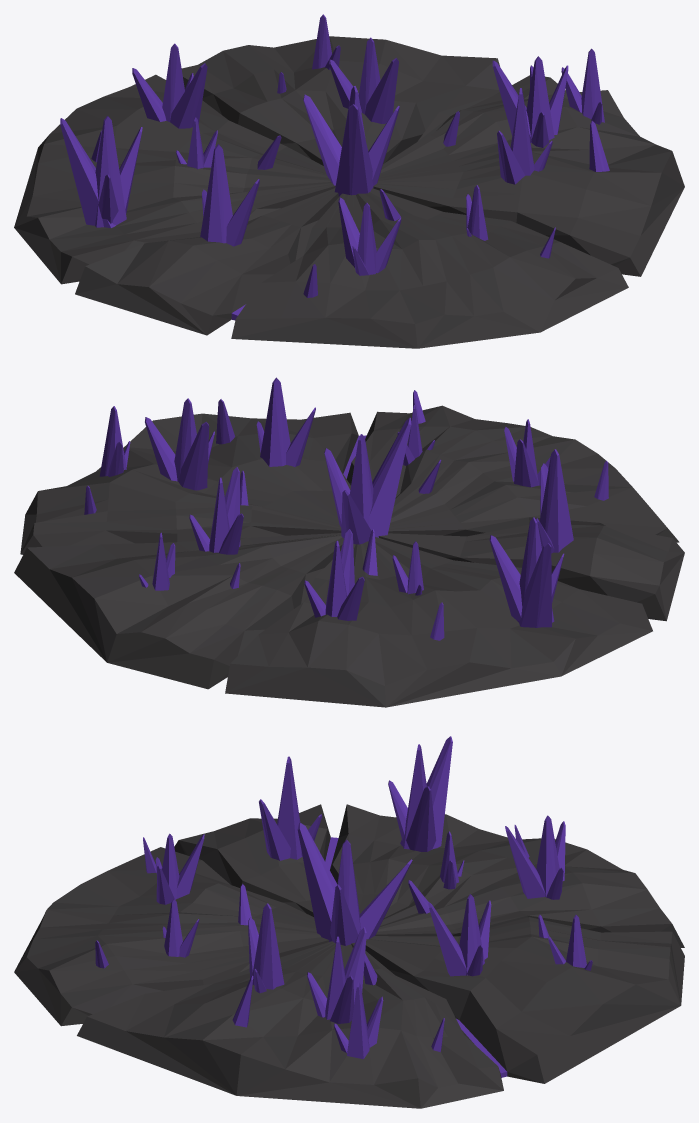
The model's file is SM_Crystalite_Node.fbx.
3 renders of one model, top to bottom at view 1: azimuth 30°, elevation 25°; view 2: azimuth 150°, elevation 25°; view 3: azimuth 270°, elevation 25°, orthographic.
Visible parts, largest first — view 1: SM_Crystalite_Node_Base; view 2: SM_Crystalite_Node_Base; view 3: SM_Crystalite_Node_Base.
Boxes of the visible parts, bbox=[...] form: SM_Crystalite_Node_Base: bbox=[14, 14, 684, 348]; SM_Crystalite_Node_Base: bbox=[14, 377, 684, 707]; SM_Crystalite_Node_Base: bbox=[14, 736, 684, 1108].
Bounding box in the file's own units: 197 × 41.87 × 196.
